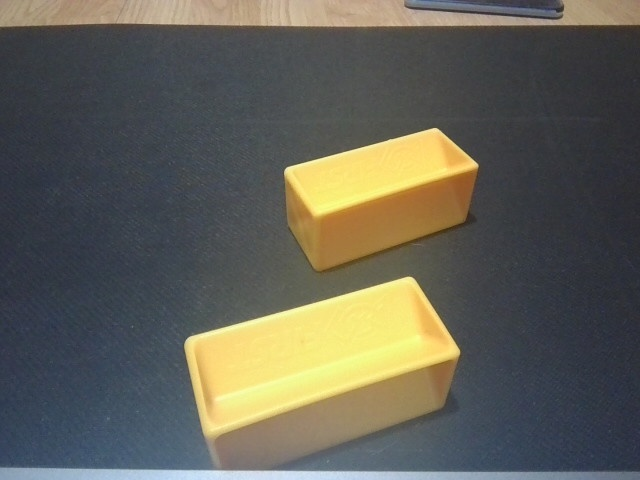YellowSample: (180, 274, 463, 468), (281, 124, 483, 274)
